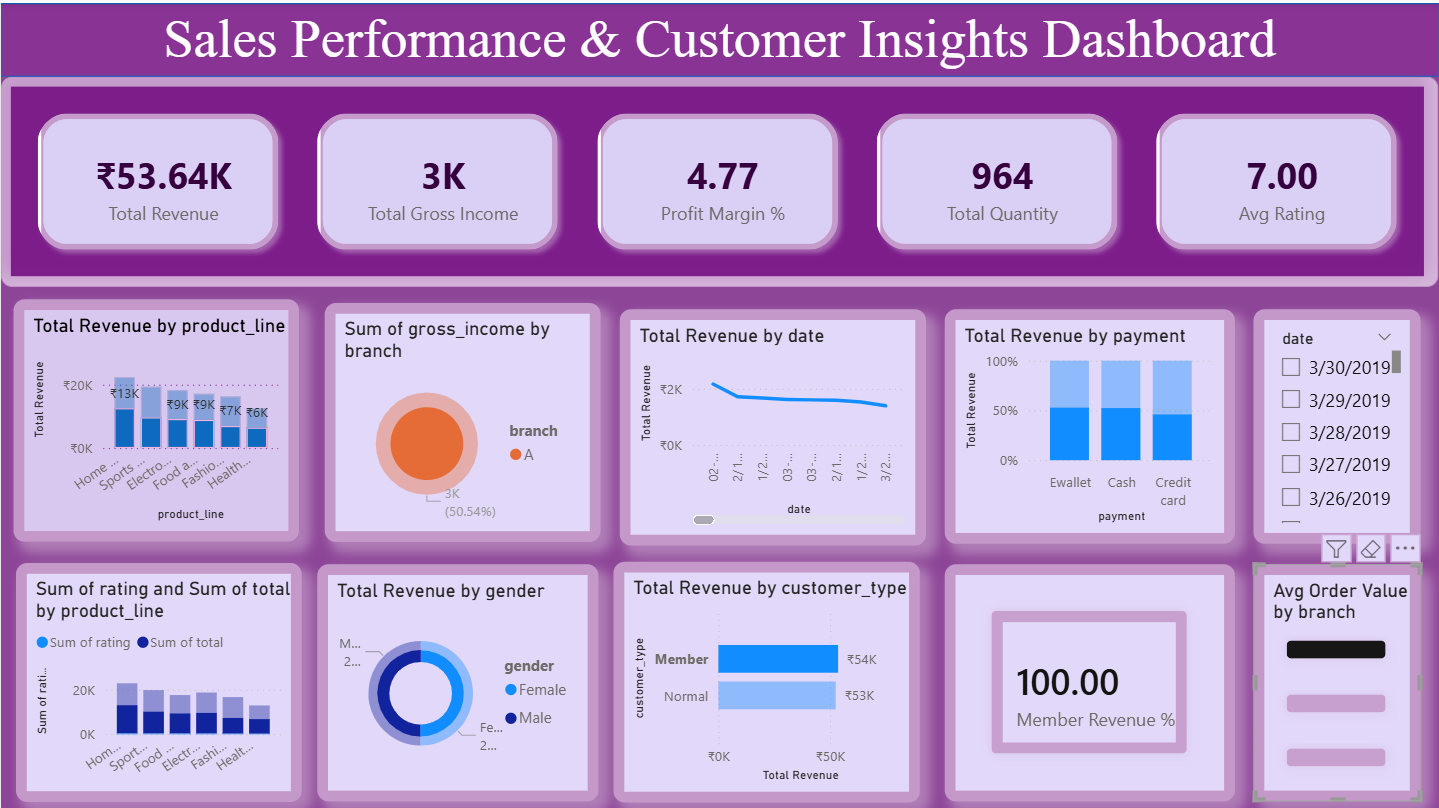

Layout of this report page (visuals, bound fields, positions):
{"tool":"powerbi","page":{"name":"Page 1","canvas":[1280,720],"ordinal":0},"visuals":[{"type":"cardVisual","fields":{"Data":["public sales_data.Total Revenue","public sales_data.Total Gross Income","public sales_data.Profit Margin %","public sales_data.Total Quantity","public sales_data.Avg Rating"]},"box":[0,65.7,1280,187.1],"z":0},{"type":"pieChart","fields":{"Category":["public sales_data.branch"],"Y":["Sum(public sales_data.gross_income)"]},"box":[288.6,267.1,245.7,212.9],"z":1000},{"type":"clusteredColumnChart","fields":{"Category":["public sales_data.product_line"],"Y":["public sales_data.Total Revenue"]},"box":[11.4,264.3,254.3,215.7],"z":2000},{"type":"lineChart","fields":{"Category":["public sales_data.date"],"Y":["public sales_data.Total Revenue"]},"box":[551.4,272.9,272.9,210],"z":3000},{"type":"hundredPercentStackedColumnChart","fields":{"Category":["public sales_data.payment"],"Y":["public sales_data.Total Revenue"]},"box":[840,272.9,258.6,208.6],"z":4000},{"type":"lineStackedColumnComboChart","fields":{"Y":["Sum(public sales_data.rating)","Sum(public sales_data.total)"],"Category":["public sales_data.product_line"]},"box":[12.9,498.6,254.3,212.9],"z":5000},{"type":"donutChart","fields":{"Category":["public sales_data.gender"],"Y":["public sales_data.Total Revenue"]},"box":[281.4,500,250,211.4],"z":6000},{"type":"clusteredBarChart","fields":{"Category":["public sales_data.customer_type"],"Y":["public sales_data.Total Revenue"]},"box":[545.7,497.1,272.9,214.3],"z":7000},{"type":"cardVisual","fields":{"Data":["public sales_data.Member Revenue %"]},"box":[840,500,258.6,211.4],"z":8000},{"type":"slicer","fields":{"Values":["public sales_data.date"]},"box":[1115.7,272.9,148.6,208.6],"z":9000},{"type":"shape","box":[0,0,1280,65.7],"z":10000},{"type":"textbox","box":[0,0,1280,65.7],"z":11000},{"type":"cardVisual","fields":{"Data":["public sales_data.Avg Order Value"]},"box":[1115.7,500,148.6,211.4],"z":12000}]}

Visuals, with their boxes in screenshot pixels (x1, y1, x2, y2), scaled from the page's 1280x720 canvas onto the 1439x808 screenshot:
cardVisual - public sales_data.Total Revenue x public sales_data.Total Gross Income: 0/74/1438/284
pieChart - public sales_data.branch x Sum(public sales_data.gross_income): 324/300/601/539
clusteredColumnChart - public sales_data.product_line x public sales_data.Total Revenue: 13/297/299/539
lineChart - public sales_data.date x public sales_data.Total Revenue: 620/306/927/542
hundredPercentStackedColumnChart - public sales_data.payment x public sales_data.Total Revenue: 944/306/1235/540
lineStackedColumnComboChart - Sum(public sales_data.rating) x Sum(public sales_data.total): 15/560/300/798
donutChart - public sales_data.gender x public sales_data.Total Revenue: 316/561/597/798
clusteredBarChart - public sales_data.customer_type x public sales_data.Total Revenue: 613/558/920/798
cardVisual - public sales_data.Member Revenue %: 944/561/1235/798
slicer - public sales_data.date: 1254/306/1421/540
shape: 0/0/1438/74
textbox: 0/0/1438/74
cardVisual - public sales_data.Avg Order Value: 1254/561/1421/798
